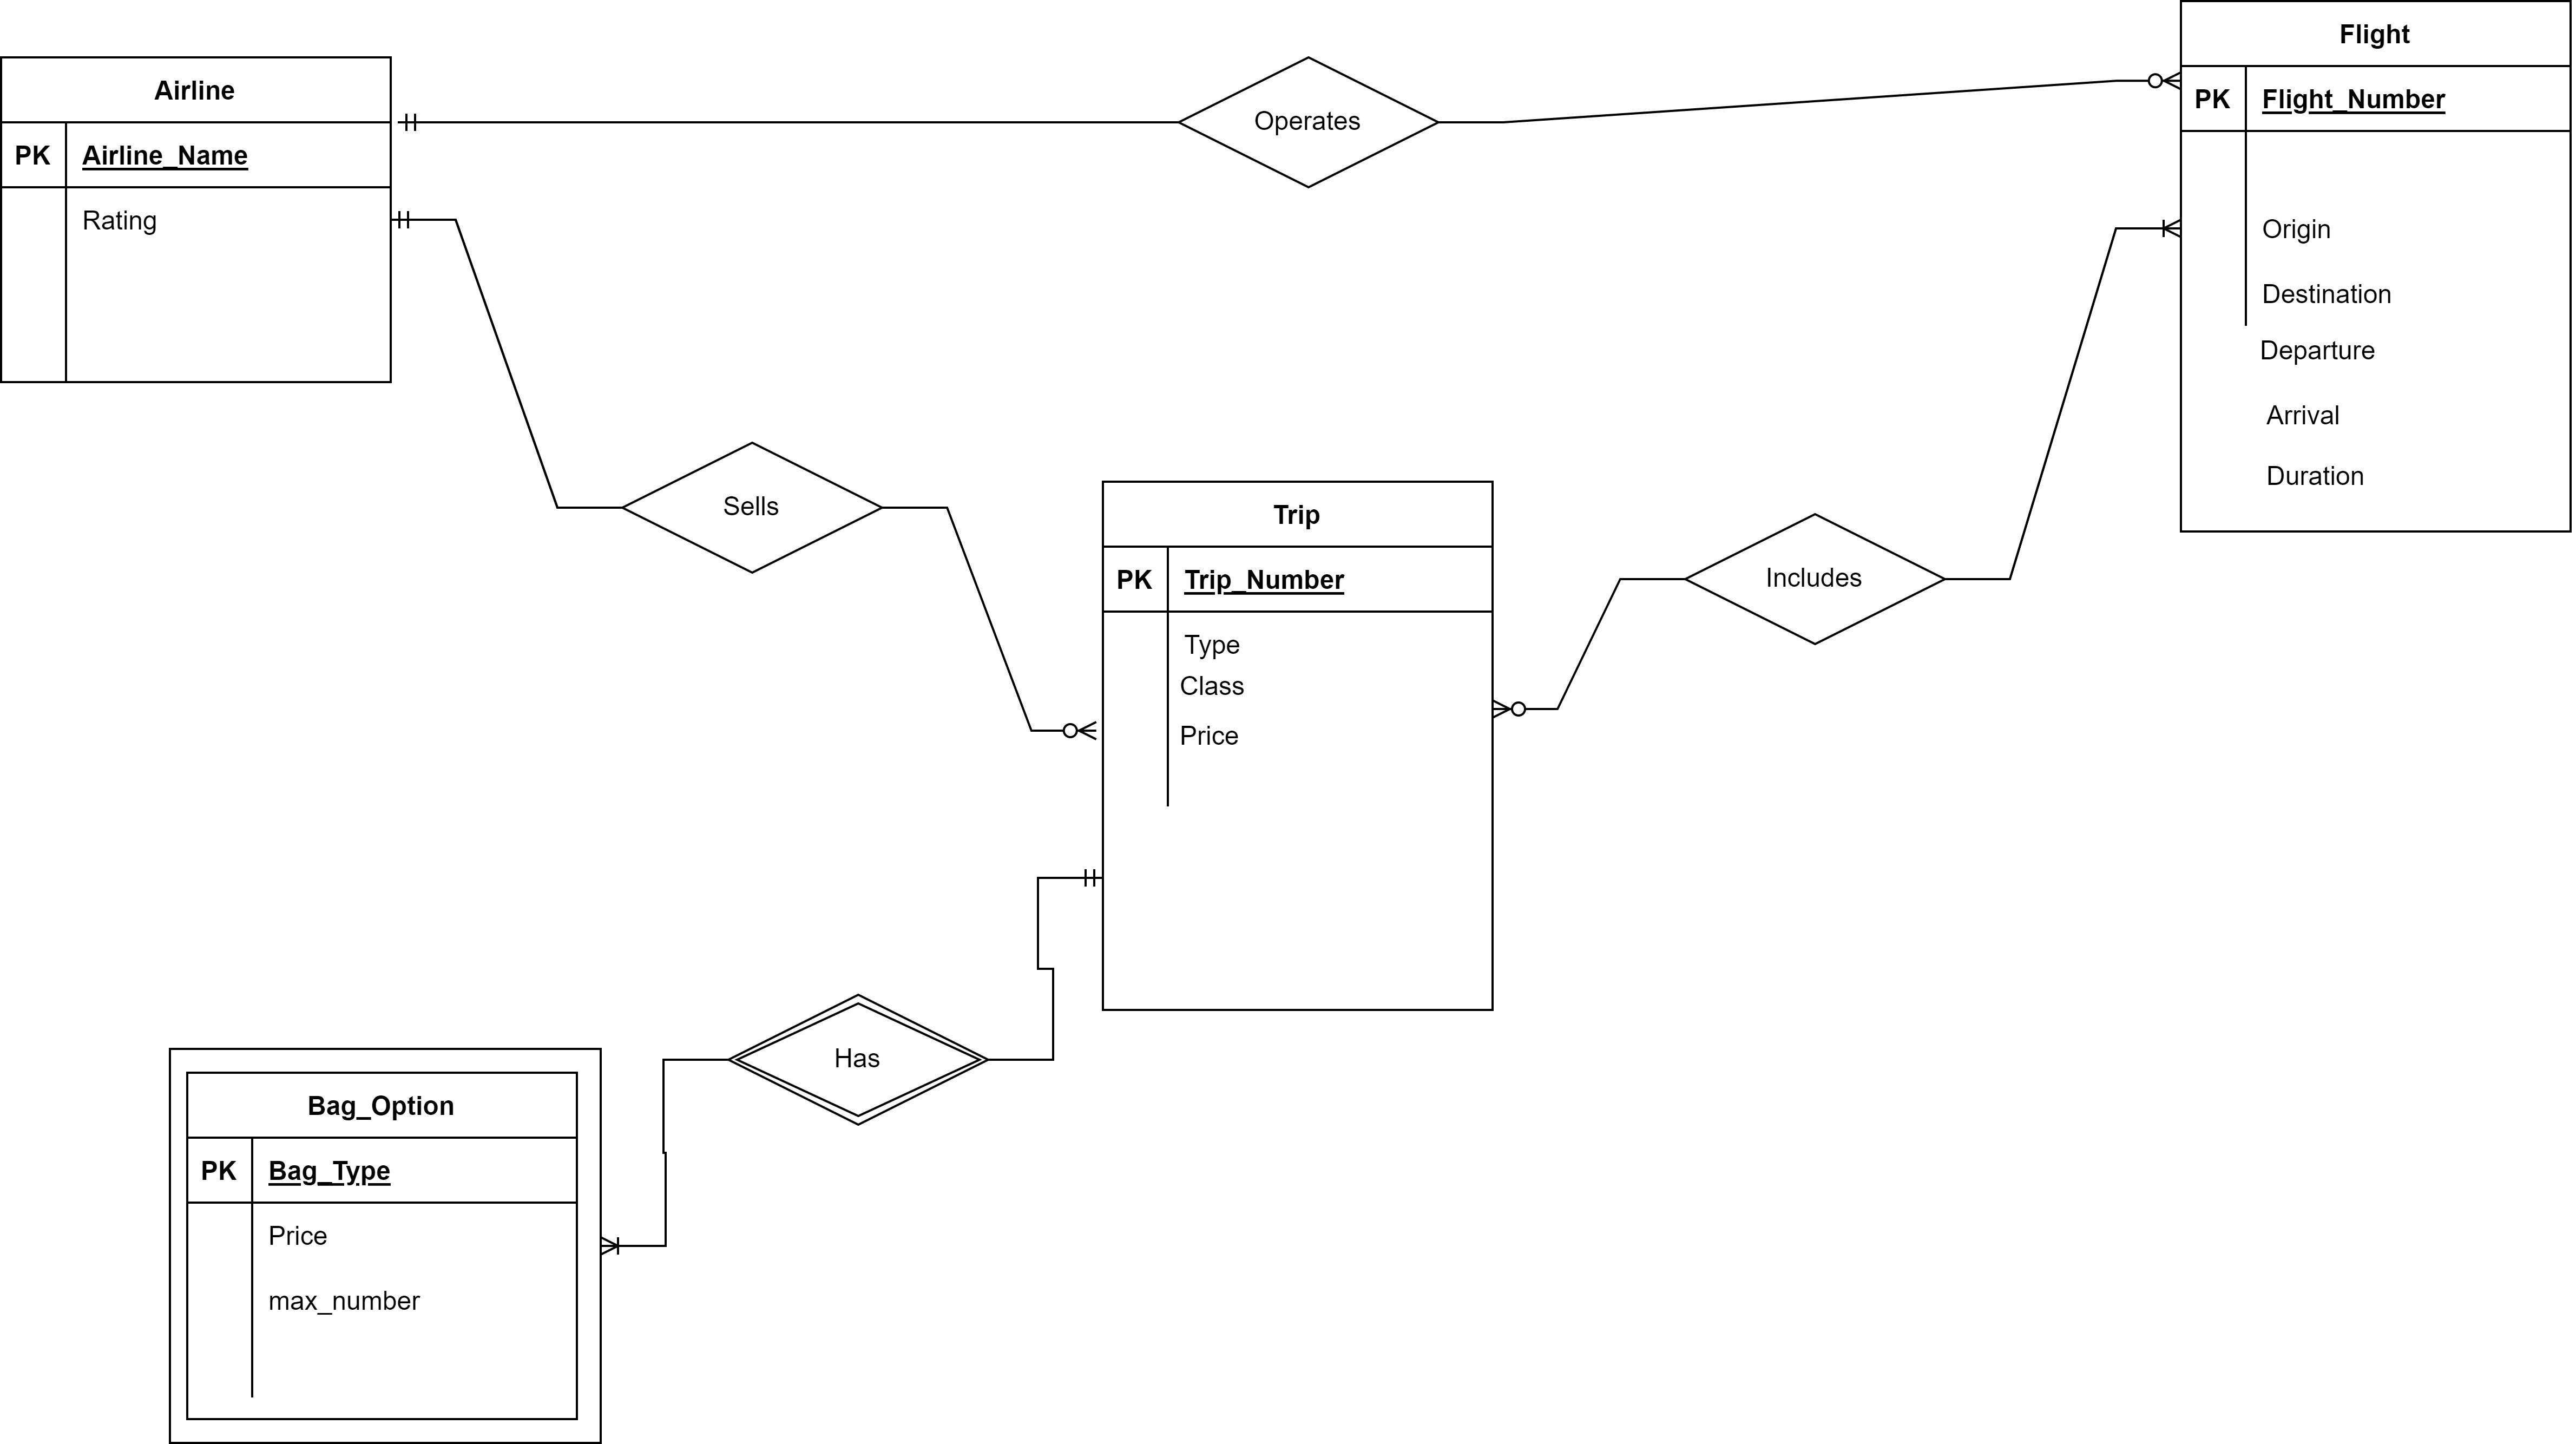entity: (1095, 478, 1497, 1018), (2176, 0, 2576, 534), (0, 58, 395, 389)
relationship: (1182, 50, 1440, 188), (619, 439, 881, 573), (1684, 513, 1944, 646)
weakentity: (168, 1046, 609, 1444)
weakrelationship: (722, 995, 991, 1124)
